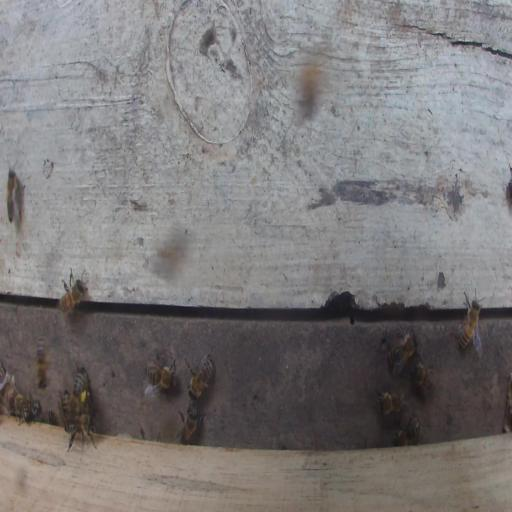bee: (384, 328, 417, 375), (186, 354, 214, 402), (144, 358, 177, 398), (65, 412, 97, 452), (53, 276, 85, 316), (458, 299, 480, 351), (33, 334, 52, 393), (6, 168, 26, 224), (176, 401, 202, 444), (409, 358, 433, 397), (392, 414, 420, 447), (12, 394, 39, 425), (377, 387, 406, 415), (61, 389, 78, 422), (73, 367, 87, 403), (48, 410, 59, 426)
